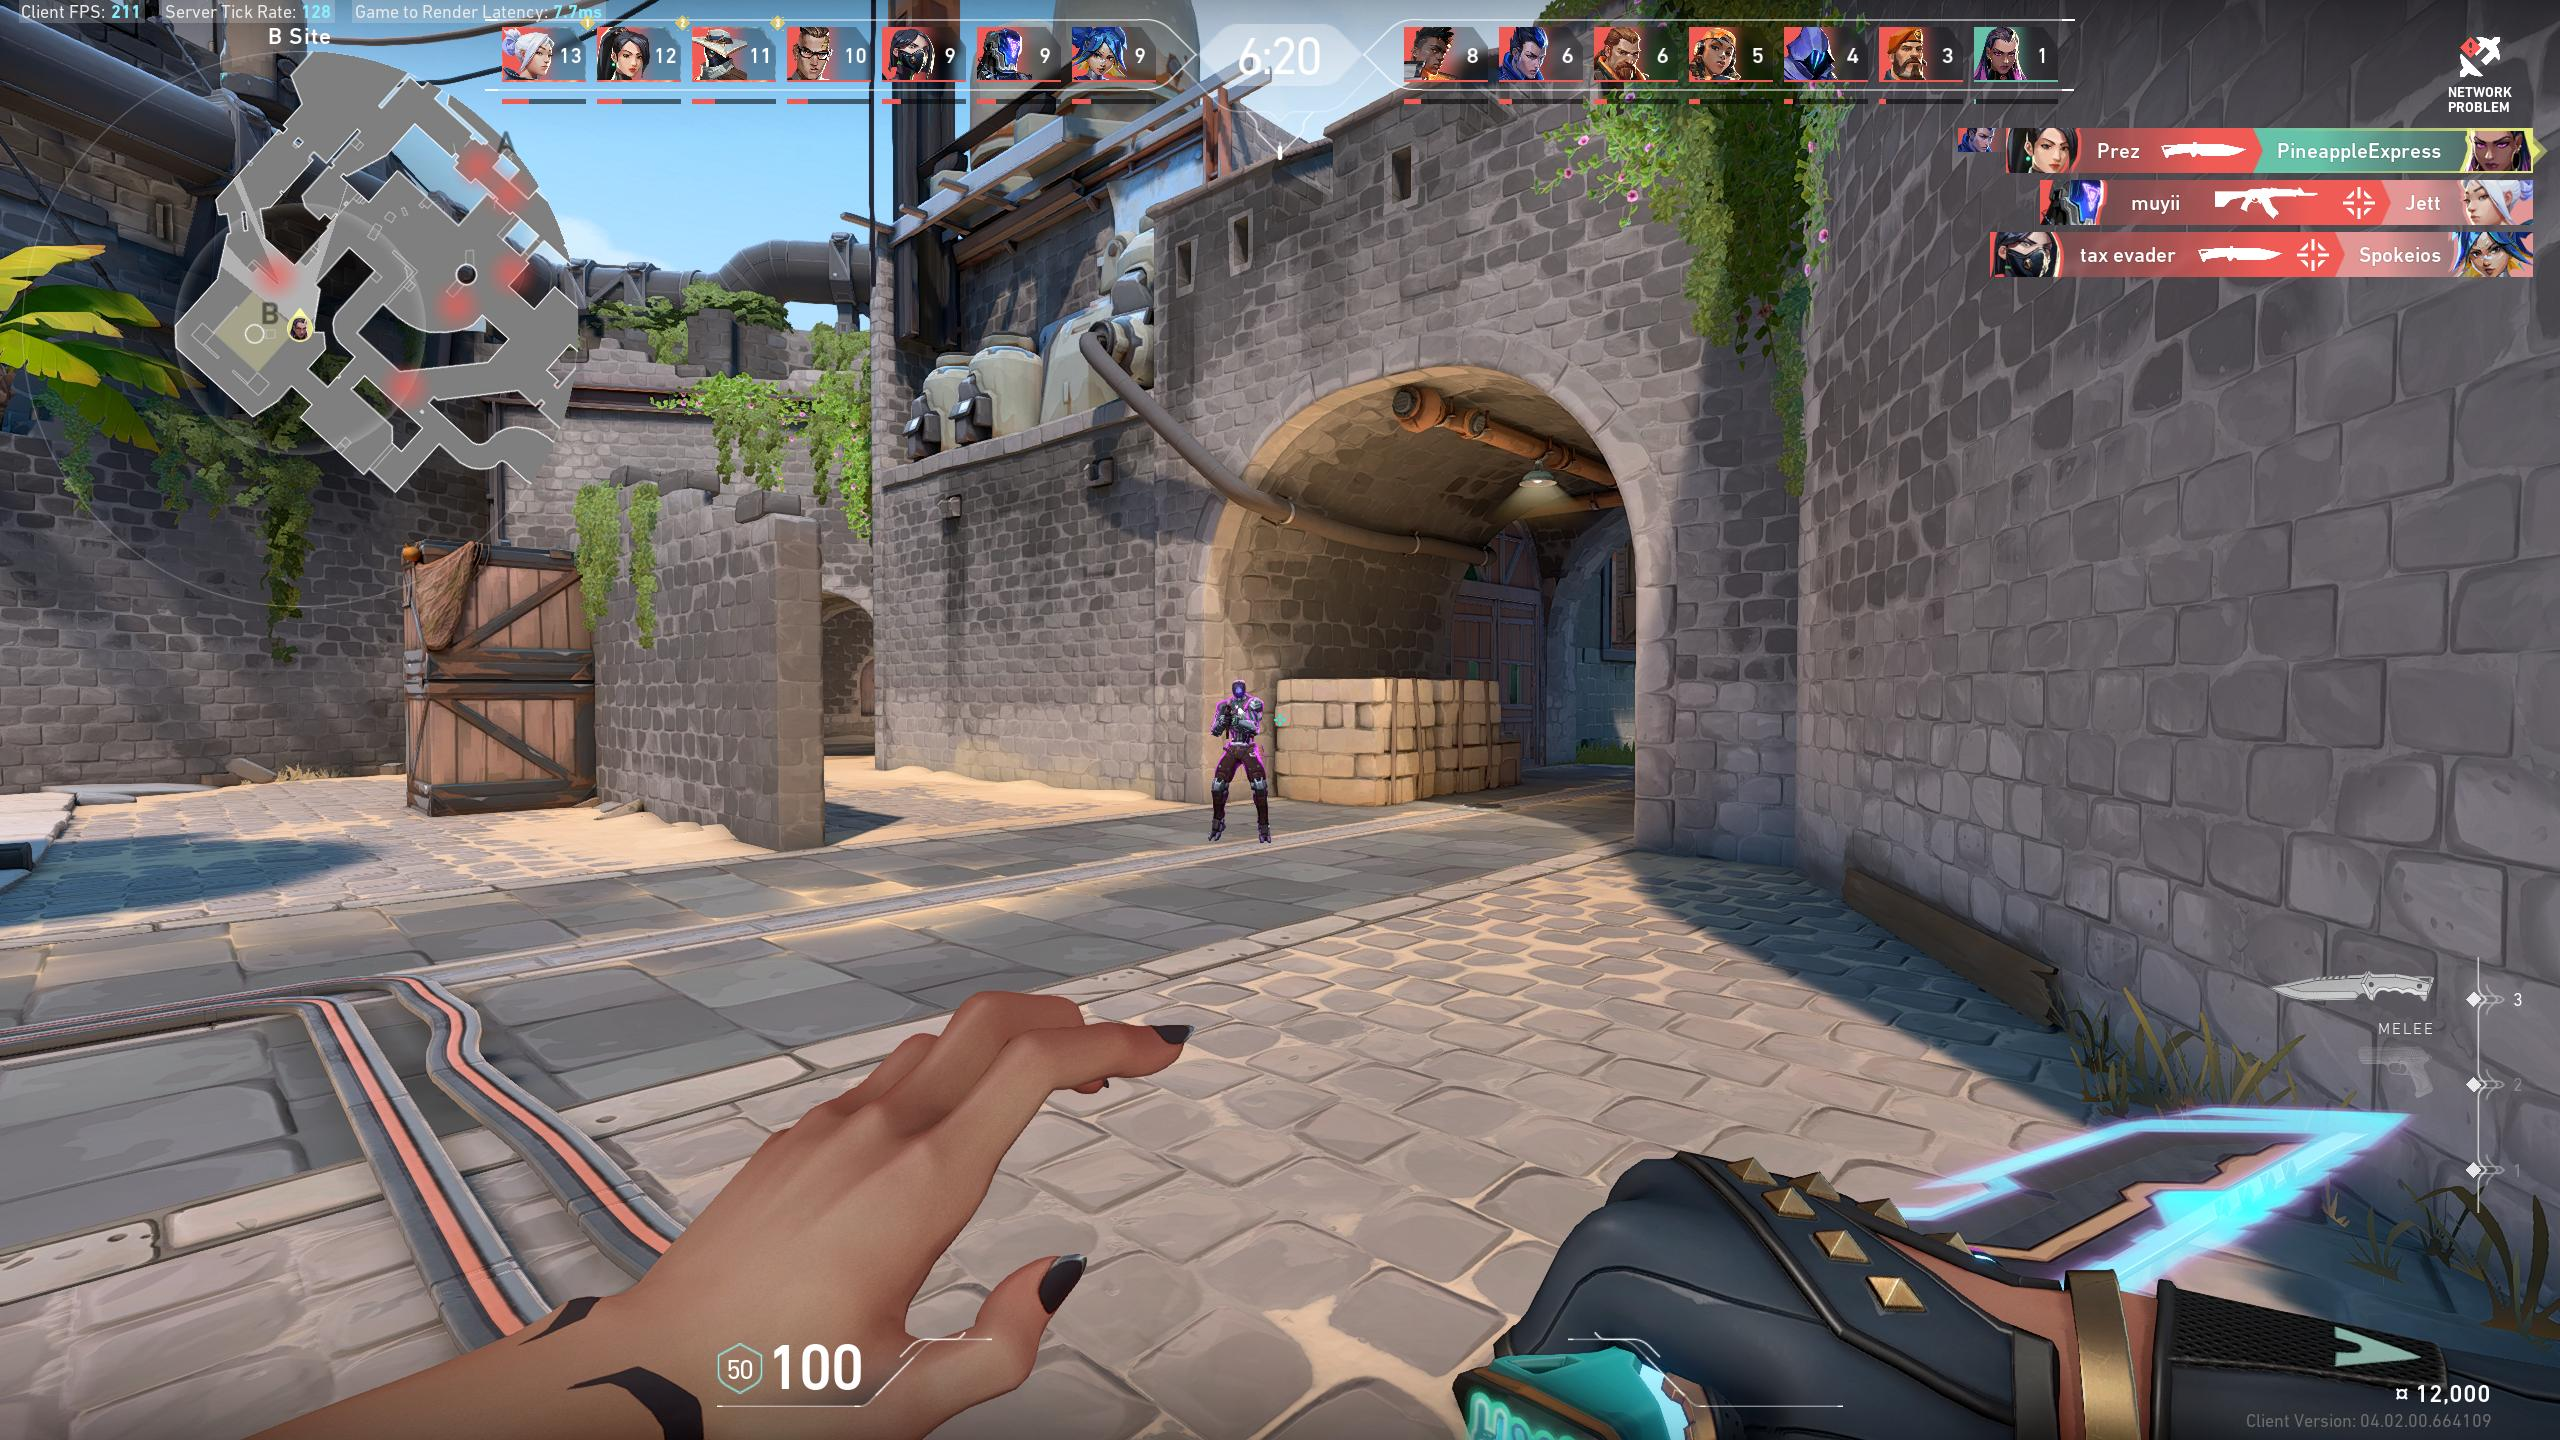enemyBody: (1233, 700, 1250, 740), (206, 1400, 207, 1400)
enemyHead: (1233, 684, 1247, 695)
